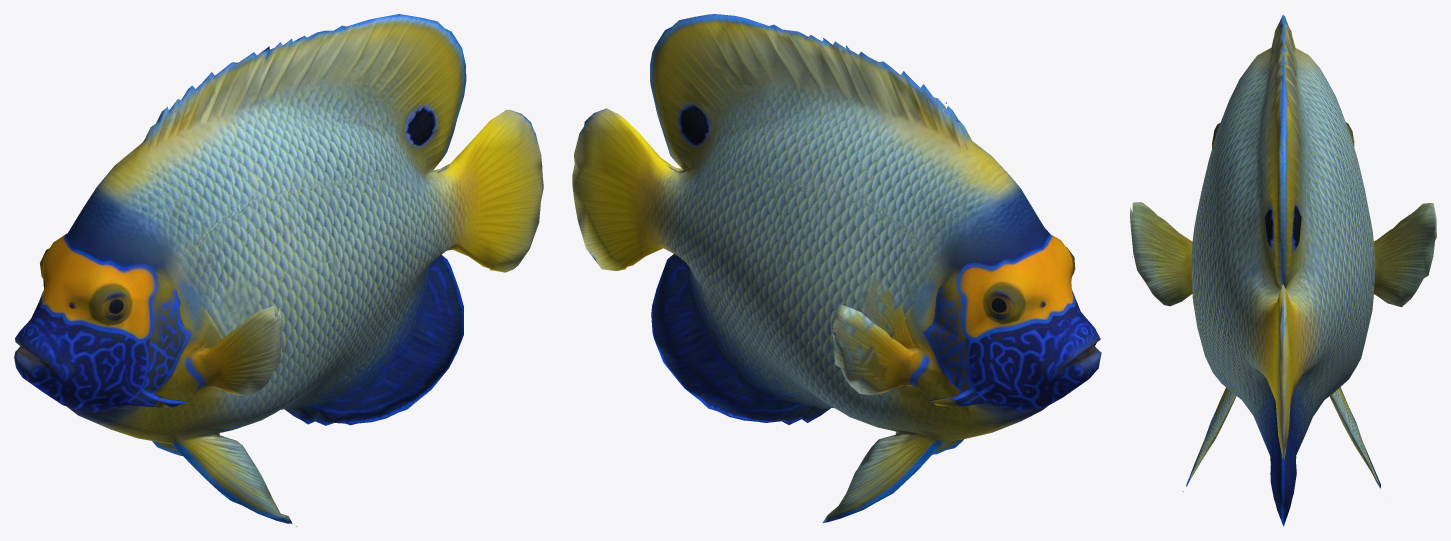
File: blueface_angel.a428eb5265.glb
3 views of the same model, side by side, from view 1: azimuth 30°, elevation 25°; view 2: azimuth 150°, elevation 25°; view 3: azimuth 270°, elevation 25° (orthographic). The views are drawn at different scales.
Visible parts, largest first — view 1: blueface_angel; view 2: blueface_angel; view 3: blueface_angel.
Boxes of the visible parts, x1,y1,x2,y2 form: blueface_angel: (14,14,543,526); blueface_angel: (572,14,1101,522); blueface_angel: (1130,15,1436,526).
Size of the model in its own units: 0.9785 by 0.7934 by 0.4651.
Materials: 1 (1 with a texture image).
